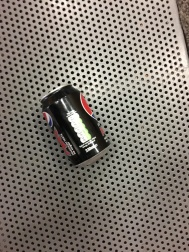can_black: (39, 78, 115, 173)
